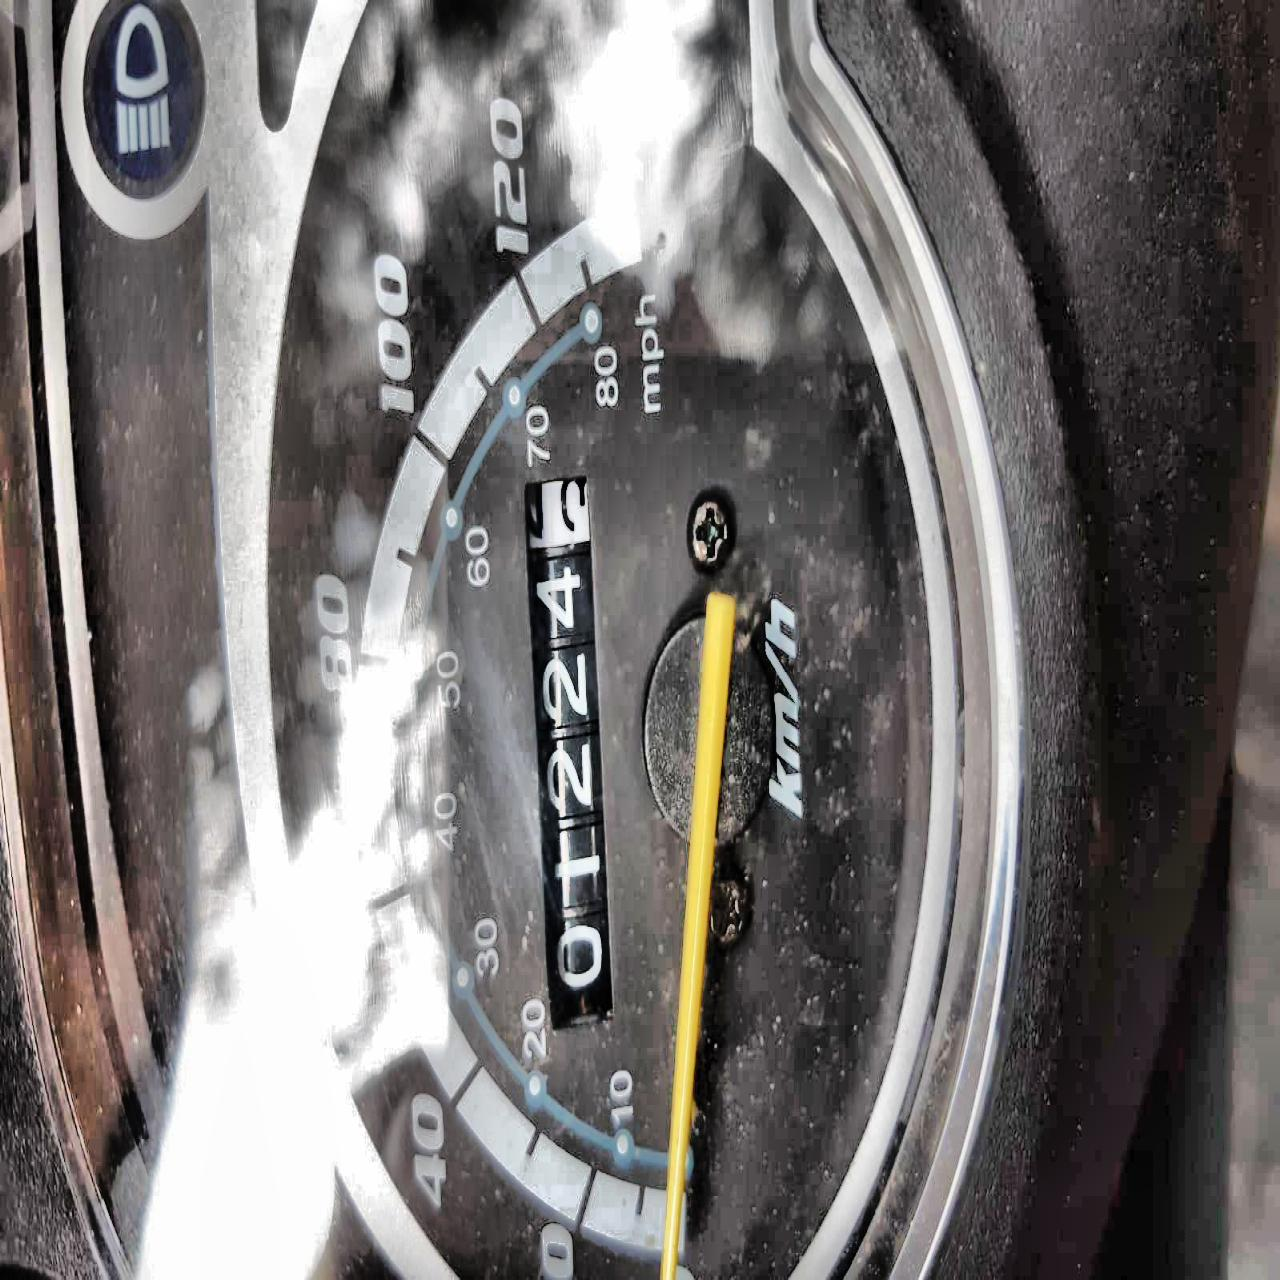0: (551, 921, 607, 990), (520, 996, 546, 1026)
1: (544, 846, 606, 887)
2: (540, 647, 594, 723), (544, 738, 597, 815)
3: (558, 472, 605, 531)
4: (531, 558, 581, 631)
odometer: (510, 468, 632, 1030)
